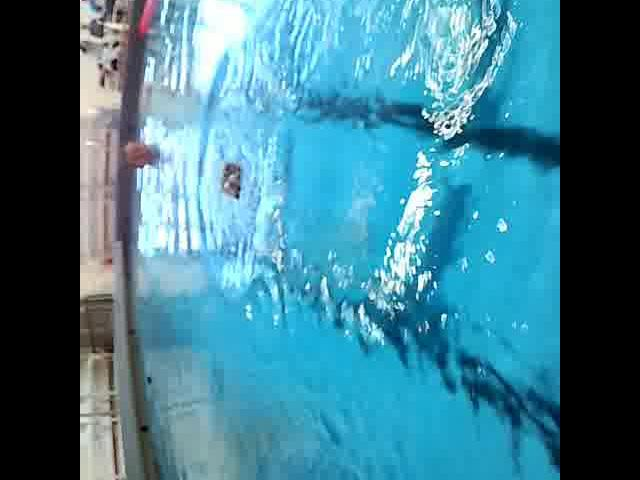CamMount: (212, 158, 248, 202)
